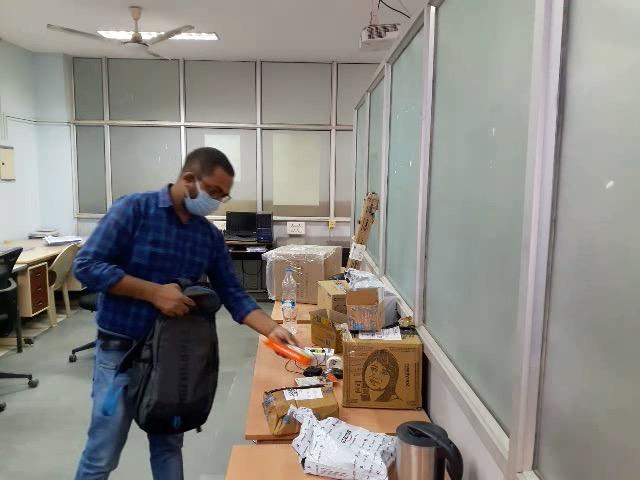shoplifting: (61, 233, 336, 459)
